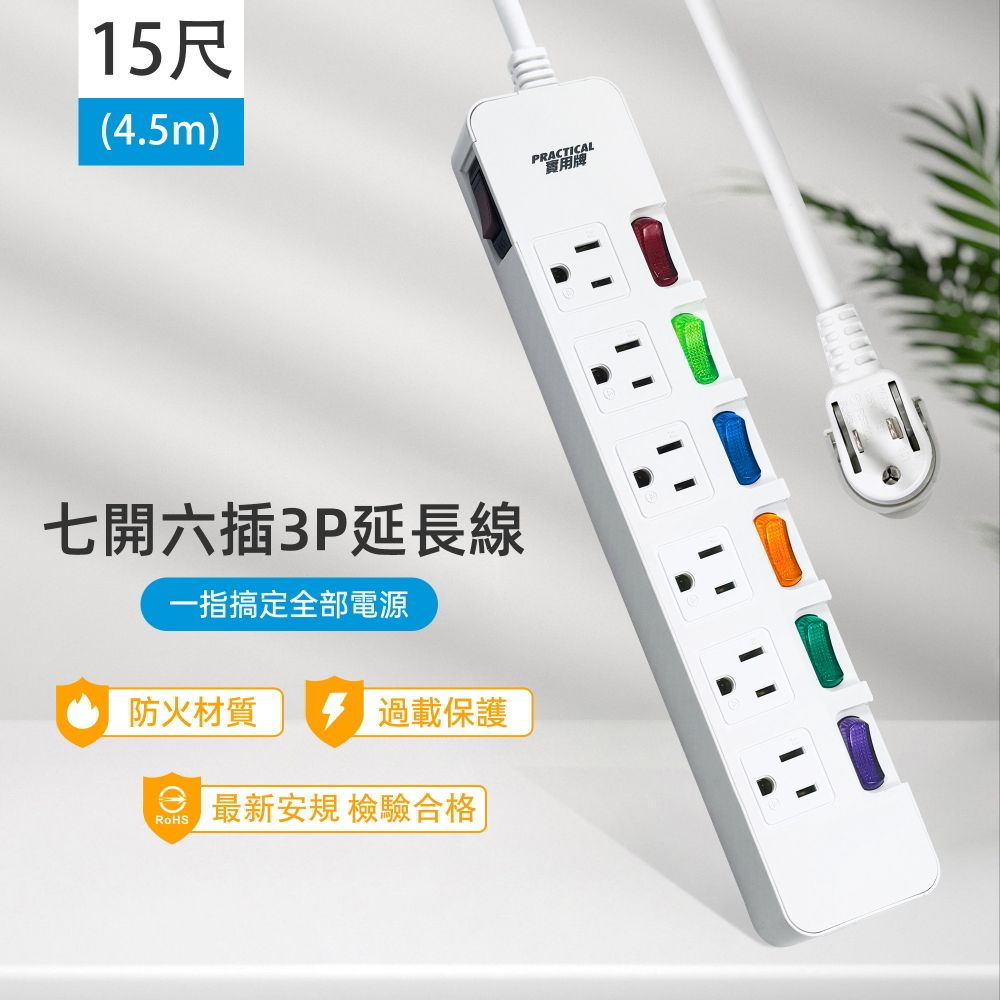socket: (451, 49, 942, 952)
